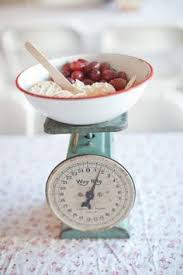Industrial Scale: (42, 118, 139, 241)
